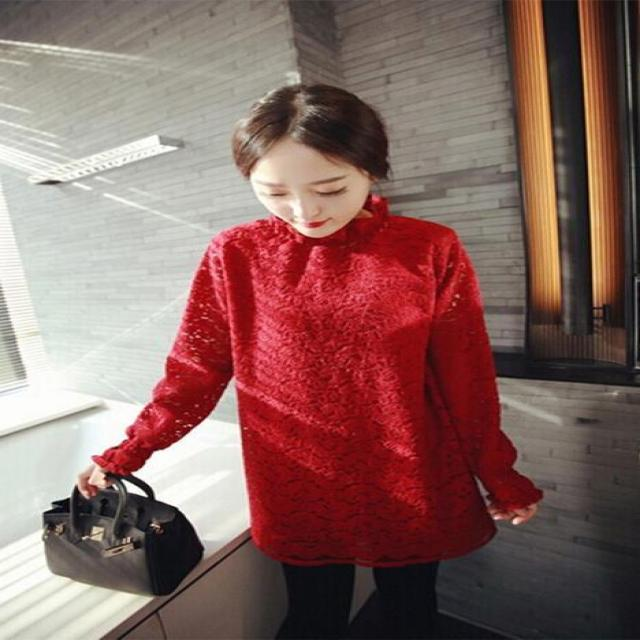long sleeve dress: (92, 201, 544, 567)
trousers: (257, 424, 450, 639)
